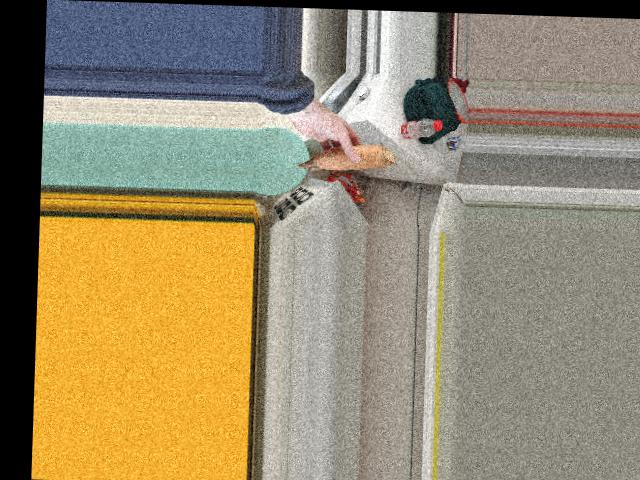sweet_potato: (303, 139, 400, 169)
